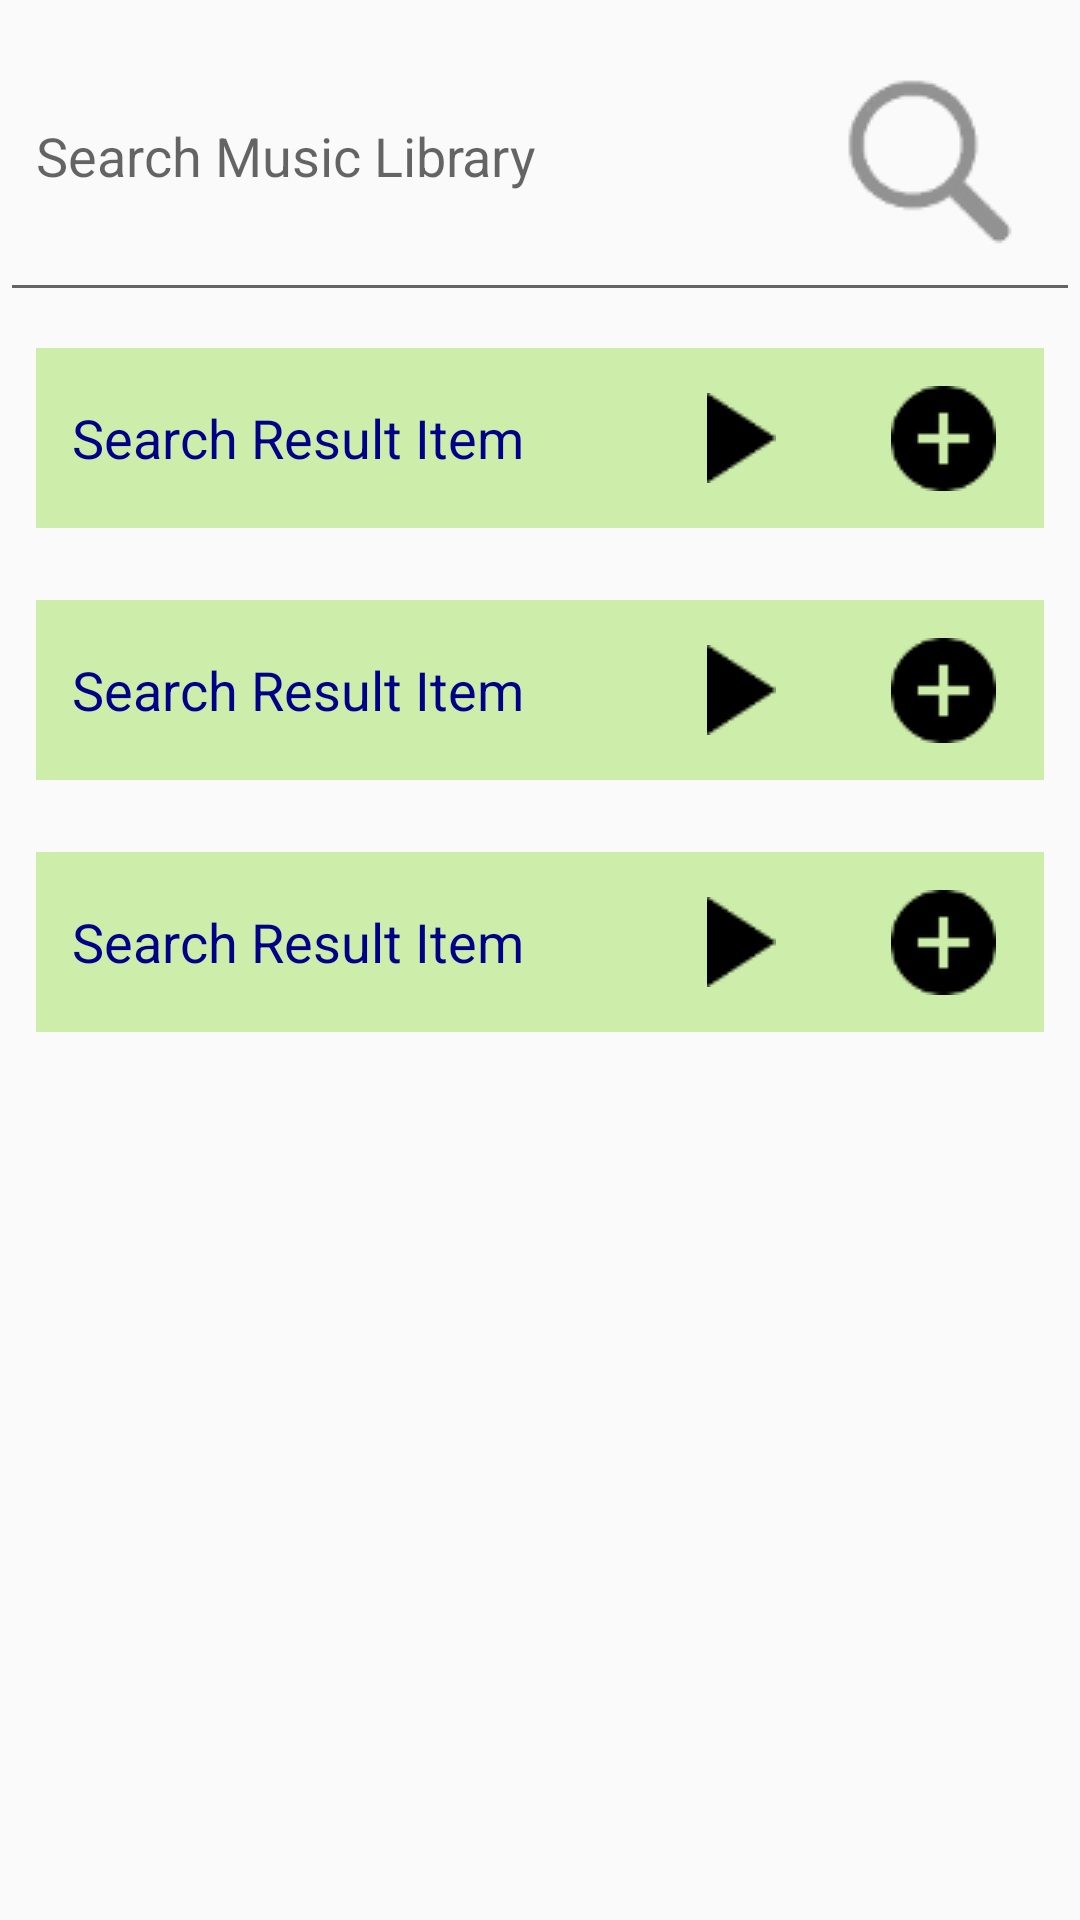

Icon click points for this 1080×1920 phone screenshot, format (x,y):
add: (943,438), (943,690), (943,942)
play: (741,438), (741,690), (741,942)
